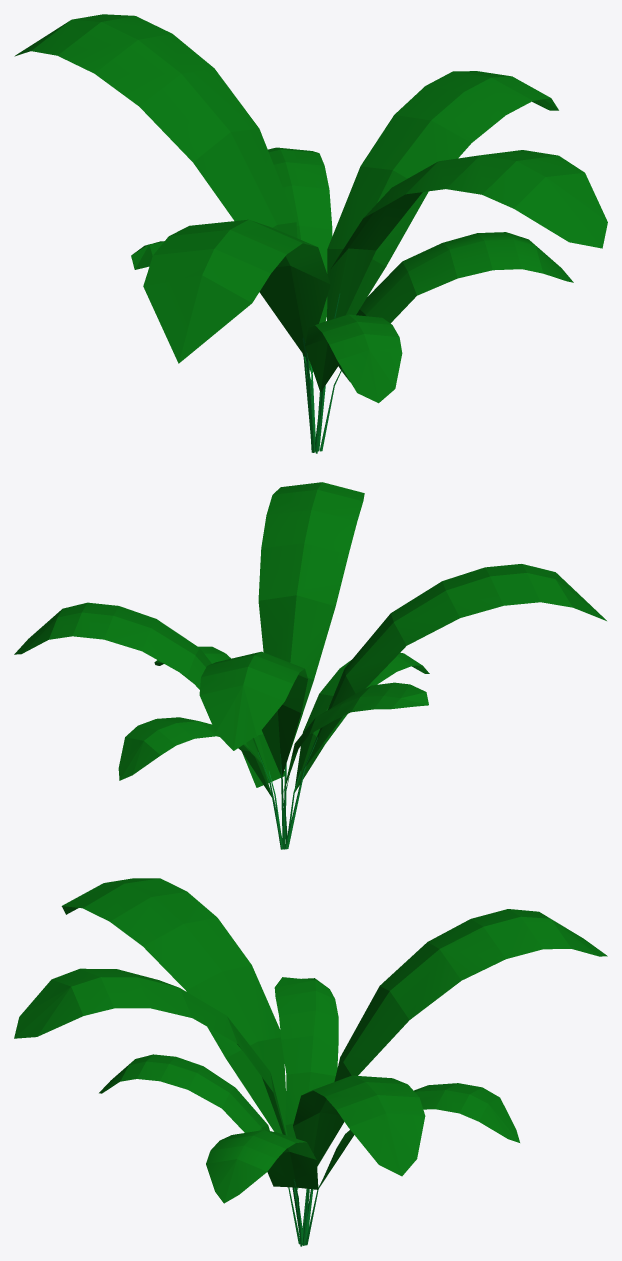
File: Fern-04.fbx
3 renders of one model, top to bottom at view 1: azimuth 30°, elevation 25°; view 2: azimuth 150°, elevation 25°; view 3: azimuth 270°, elevation 25°, orthographic. The views are drawn at different scales.
Visible parts, largest first — view 1: Fern-01; view 2: Fern-01; view 3: Fern-01.
Part boxes in pixels (bbox=[...]): Fern-01: bbox=[14, 14, 607, 453]; Fern-01: bbox=[14, 482, 606, 849]; Fern-01: bbox=[14, 878, 607, 1246].
Bounding box in the file's own units: 3.02 × 1.81 × 3.26.
